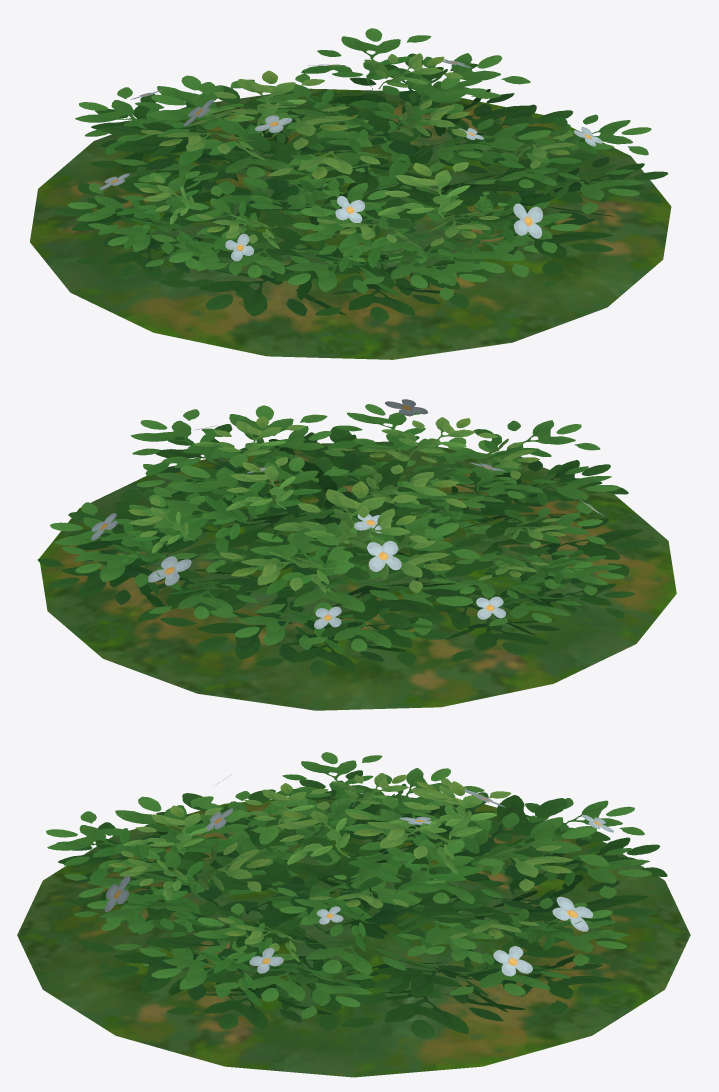
Rendered from Homeworld_General_Common_Thing_Prop_Irodori_Viewforward_04_Vo.fbx.
The picture shows the model from 3 angles, top to bottom: view 1: azimuth 30°, elevation 25°; view 2: azimuth 150°, elevation 25°; view 3: azimuth 270°, elevation 25°; orthographic projection. The views are drawn at different scales.
Visible parts, largest first — view 1: Homeworld_General_Common_Thing_Prop_Irodori_Viewforward_04_V; view 2: Homeworld_General_Common_Thing_Prop_Irodori_Viewforward_04_V; view 3: Homeworld_General_Common_Thing_Prop_Irodori_Viewforward_04_V.
Part boxes in pixels (x1,y1,x2,y2): Homeworld_General_Common_Thing_Prop_Irodori_Viewforward_04_V: (30,28,671,359); Homeworld_General_Common_Thing_Prop_Irodori_Viewforward_04_V: (37,399,676,710); Homeworld_General_Common_Thing_Prop_Irodori_Viewforward_04_V: (17,752,690,1077).
Bounding box in the file's own units: 0.7368 × 0.1526 × 0.7347.
